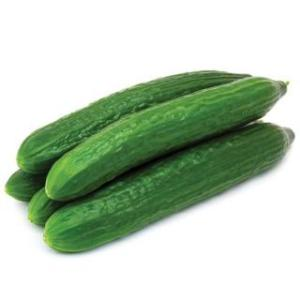cucumber: (39, 121, 294, 257), (41, 75, 295, 201), (15, 72, 252, 176)
